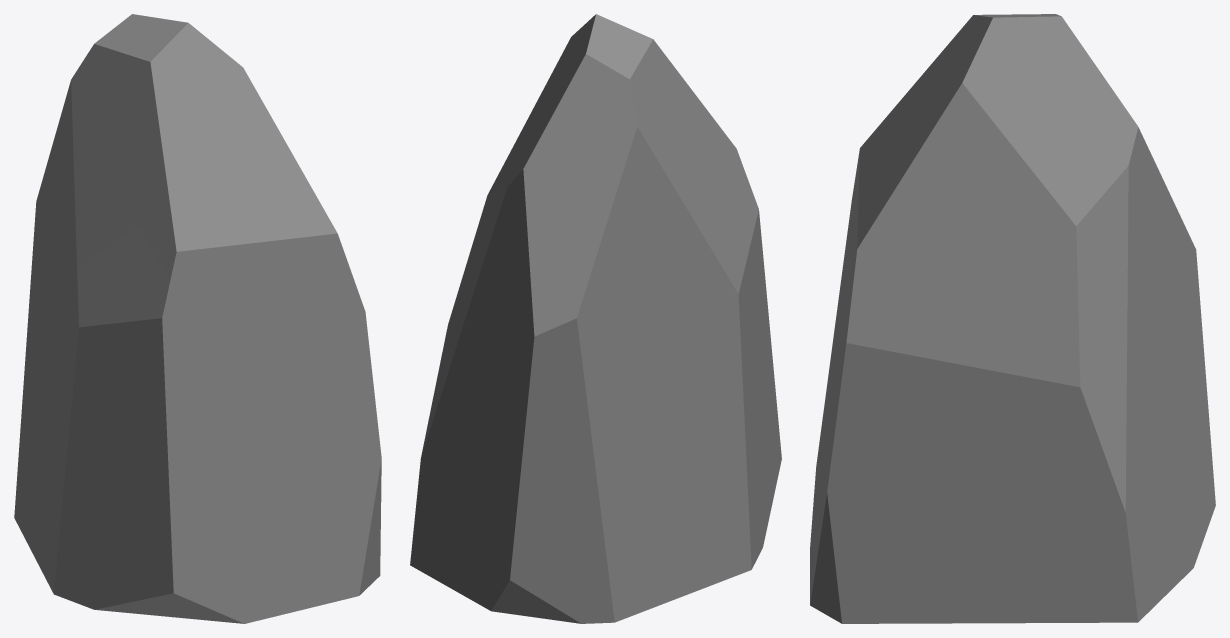
The model's file is HardRock_20.fbx.
3 renders of one model, left to right at view 1: azimuth 30°, elevation 25°; view 2: azimuth 150°, elevation 25°; view 3: azimuth 270°, elevation 25°, orthographic. The views are drawn at different scales.
Visible parts, largest first — view 1: HardRock_20; view 2: HardRock_20; view 3: HardRock_20.
Part boxes in pixels (<box>): HardRock_20: <box>14,14,381,623</box>; HardRock_20: <box>410,14,781,623</box>; HardRock_20: <box>810,14,1215,623</box>.
Bounding box in the file's own units: 60.65 × 116 × 78.15.
